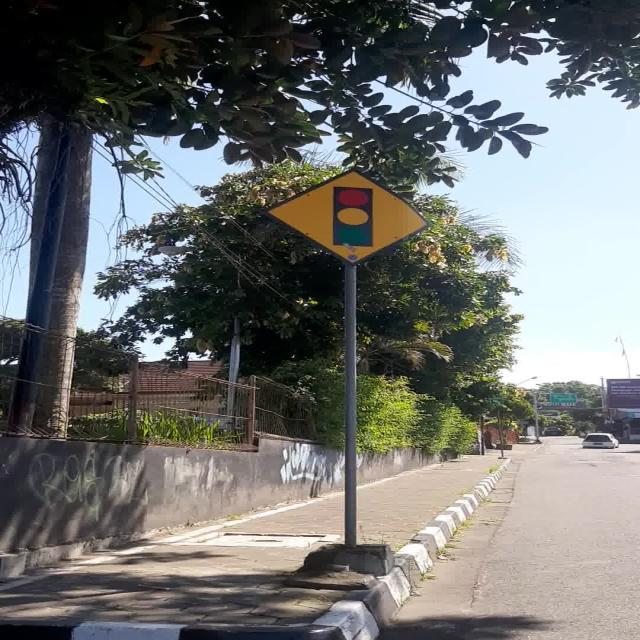Lampu Lalu Lintas: (260, 168, 430, 266)
